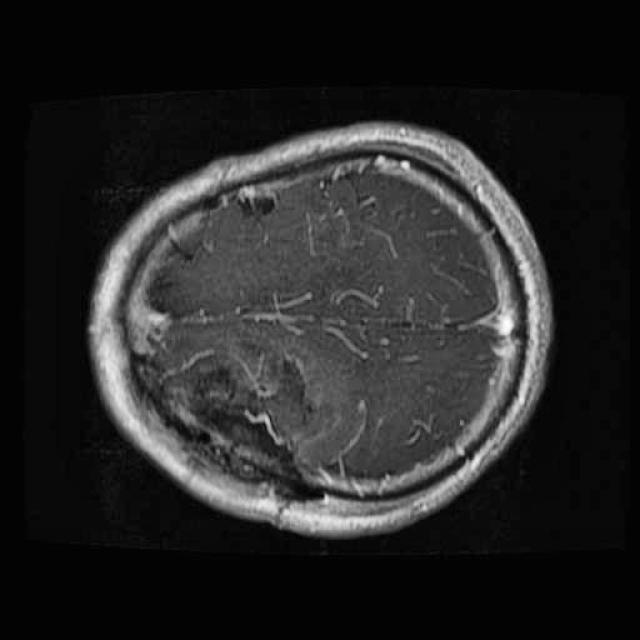Tumor: (171, 323, 337, 493)
